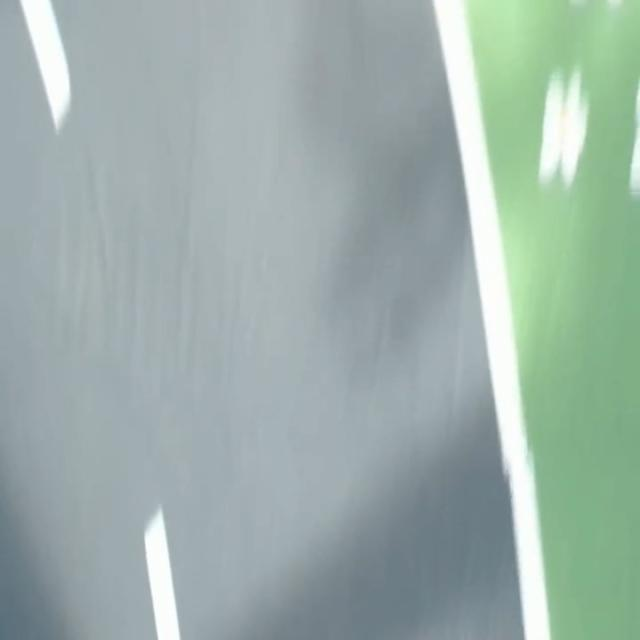center: (20, 0, 70, 131), (145, 508, 180, 639)
right: (434, 0, 549, 639)
